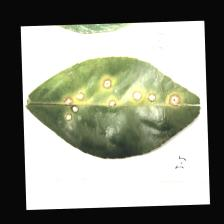canker: (60, 74, 186, 128)
